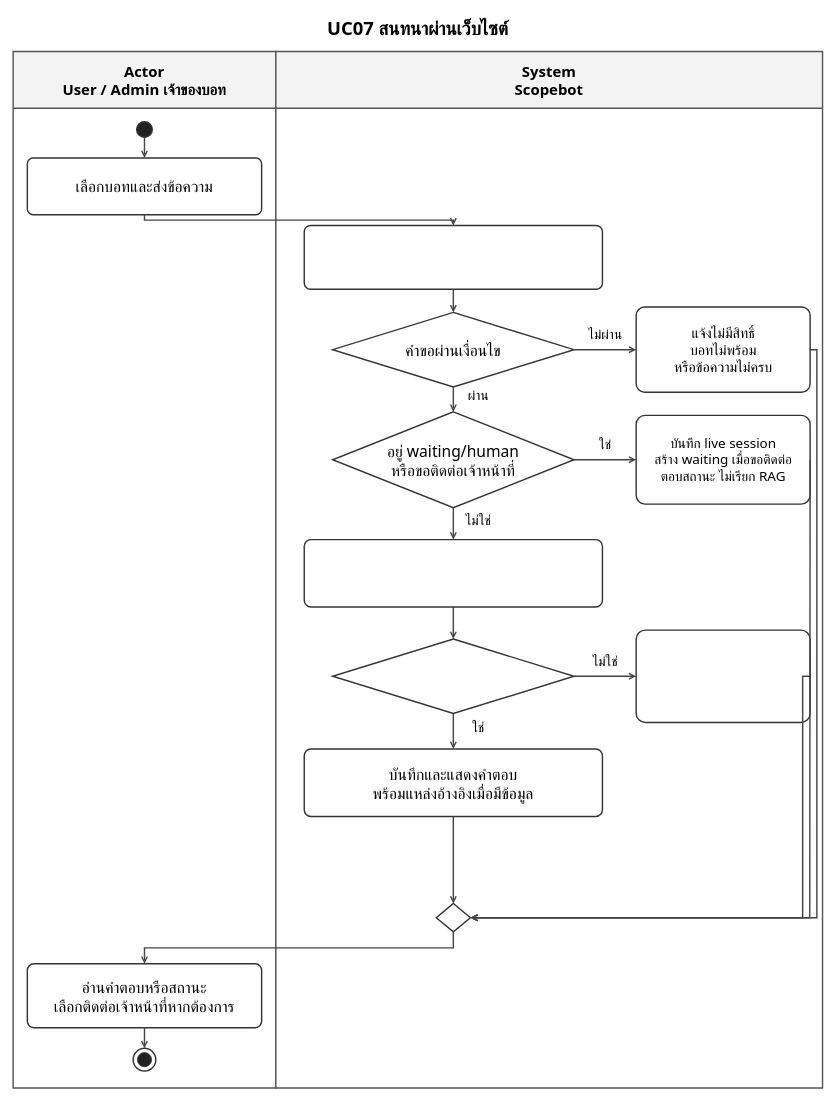
The diagram is 835 pixels wide and 1101 high, and some of its shapes have lost their labels. The box of each missing label's shape, as (x1, y1, x2, y2) in pixels:
ค้นหลักฐาน สร้างและตรวจคำตอบ จากเอกสารของบอท: (303, 539, 603, 607)
ตรวจเจ้าของ ความพร้อมฐานความรู้ และความยาวข้อความ: (303, 224, 603, 290)
บันทึกผลและแจ้ง ไม่พบข้อมูล หรือบริการขัดข้อง เสนอปุ่มติดต่อเจ้าหน้าที่: (635, 629, 810, 723)
มีคำตอบที่รองรับได้: (332, 638, 574, 714)
